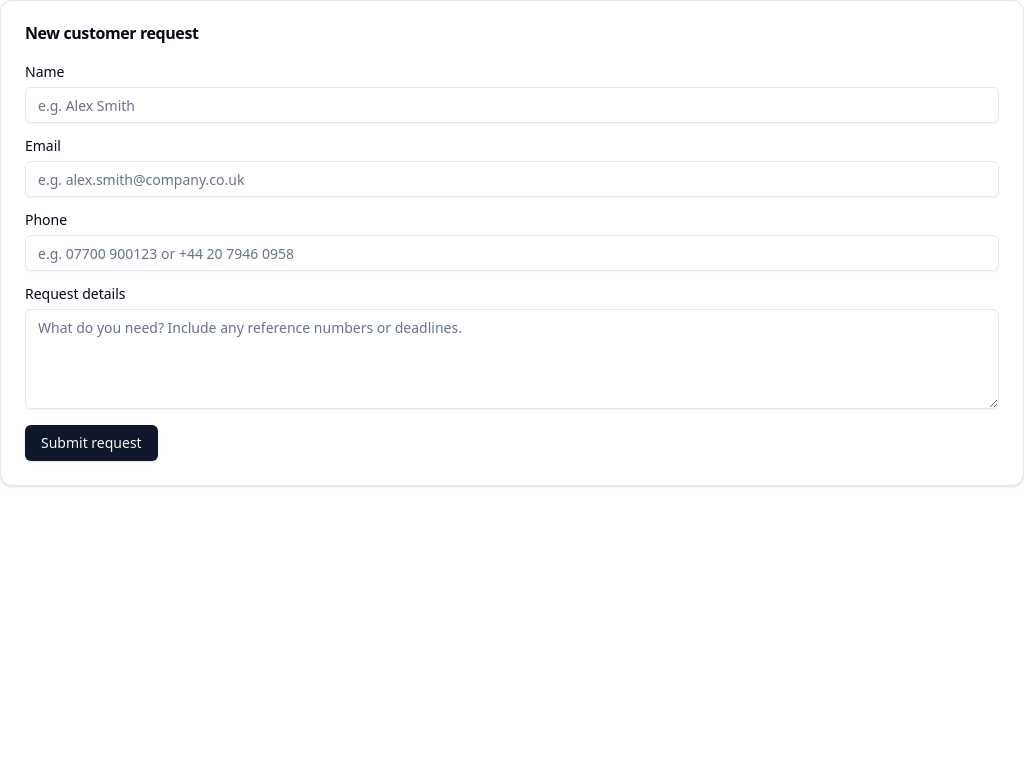
Test: CustomerForm › shows validation messages for empty submit
Step 1. Click the button "Submit request" → (91, 443), box [25,425,158,461]
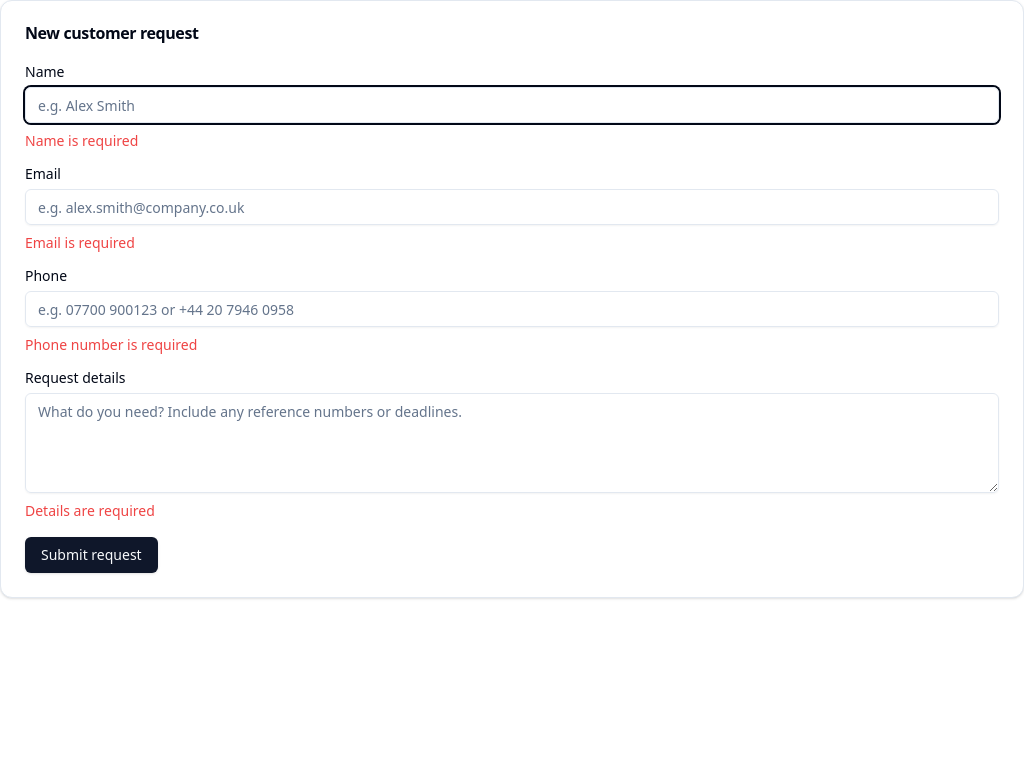
Now the text "Name is required" is shown, box [25,131,138,150]
Now the text "Email is required" is shown, box [25,233,135,252]
Now the text "Phone number is required" is shown, box [25,335,197,354]
